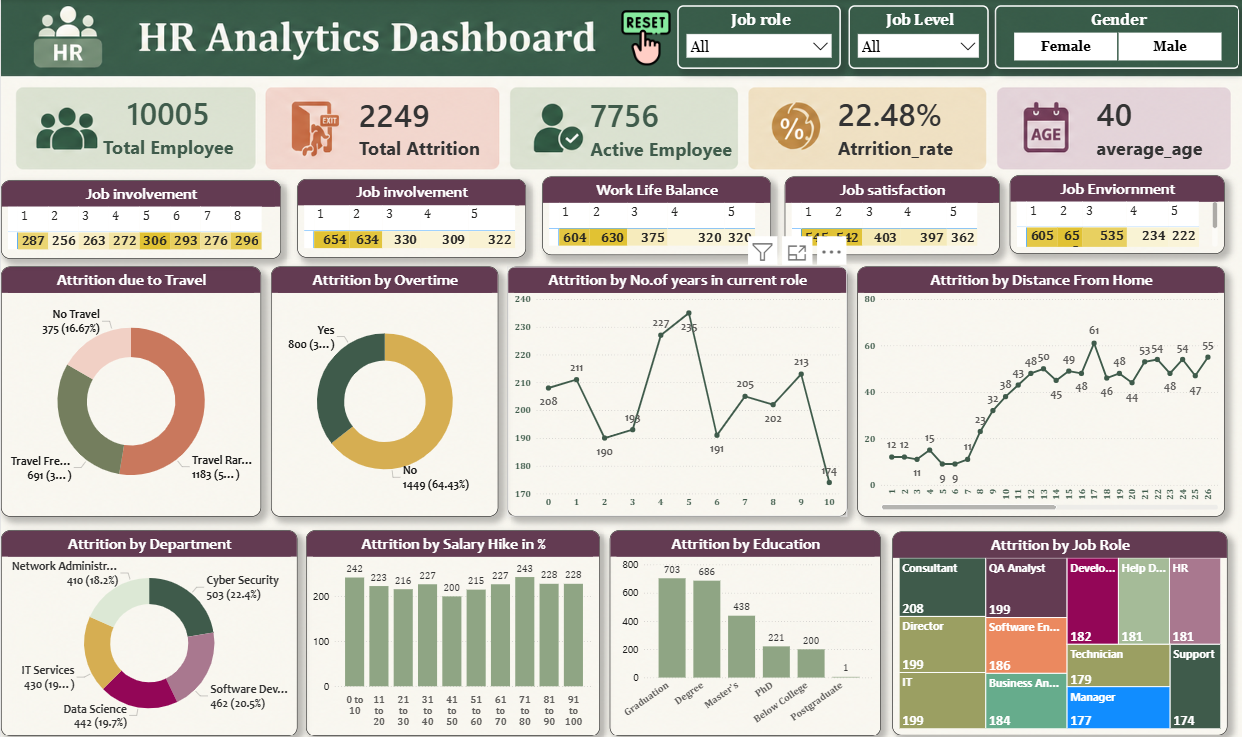

What the dashboard file says about the page in this screenshot:
{"tool":"powerbi","page":{"name":"Page 1","canvas":[2000,1200],"ordinal":0},"visuals":[{"type":"cardVisual","fields":{"Data":["CountNonNull(Employees.Employee_ID)"]},"box":[120.6,132.7,297.6,140.8],"z":0},{"type":"cardVisual","fields":{"Data":["Employees.Attrition_yes"]},"box":[546.9,88.5,297.6,233.2],"z":1000},{"type":"cardVisual","fields":{"Data":["Employees.Attrition_no"]},"box":[918.9,112.6,297.6,187],"z":2000},{"type":"cardVisual","fields":{"Data":["Employees.Atrrition_rate"]},"box":[1317,126.7,273.5,156.8],"z":3000},{"type":"cardVisual","fields":{"Data":["Employees.average_age"]},"box":[1733.3,128.7,267.4,150.8],"z":4000},{"type":"donutChart","title":"Attrition by Department","fields":{"Category":["Employees.Department"],"Y":["Employees.Attrition_yes"]},"box":[0,854.6,476.5,331.8],"z":5000},{"type":"treemap","title":"Attrition by Job Role","fields":{"Group":["Employees.Job_Role"],"Values":["Employees.Attrition_yes"]},"box":[1433.7,856.6,538.9,327.7],"z":6000},{"type":"lineChart","title":"Attrition by Distance From Home","fields":{"Category":["Employees.Distance_From_Home"],"Y":["Employees.Attrition_yes"]},"box":[1377.4,430.3,591.2,402.1],"z":7000},{"type":"donutChart","title":"Attrition by Overtime","fields":{"Category":["Employees.Overtime"],"Y":["Employees.Attrition_yes"]},"box":[433.6,430.3,366,402.1],"z":8000},{"type":"pivotTable","title":"Job satisfaction","fields":{"Values":["Employees.Attrition_yes"],"Columns":["Employees.Job_Satisfaction"]},"box":[1260.7,285.5,345.8,126.7],"z":9000},{"type":"pivotTable","title":"Job Enviornment ","fields":{"Values":["Employees.Attrition_yes"],"Columns":["Employees.Environment_Satisfaction"]},"box":[1622.7,283.5,345.8,126.7],"z":10000},{"type":"pivotTable","title":"Work Life Balance","fields":{"Values":["Employees.Attrition_yes"],"Columns":["Employees.Work_life_balance"]},"box":[870.6,285.5,368,126.7],"z":11000},{"type":"donutChart","title":"Attrition due to Travel","fields":{"Category":["Employees.Business_Travel"],"Y":["Employees.Attrition_yes"]},"box":[0,430.3,418.2,402.1],"z":12000},{"type":"lineChart","title":"Attrition by No.of years in current role","fields":{"Category":["Employees.No_of_years_in_current_role"],"Y":["Employees.Attrition_yes"]},"box":[815,430.3,546.9,402.1],"z":13000},{"type":"columnChart","title":"Attrition by Salary Hike in %","fields":{"Y":["Employees.Attrition_yes"],"Category":["Employees.Salary_Hike_in_percent (groups)"]},"box":[491.4,854.6,472.5,331.8],"z":14000},{"type":"columnChart","title":"Attrition by Education","fields":{"Y":["Employees.Attrition_yes"],"Category":["Employees.Education"]},"box":[978.8,854.6,436,331.8],"z":15000},{"type":"pivotTable","title":"Job involvement","fields":{"Values":["Employees.Attrition_yes"],"Columns":["Employees.Job_Involvement"]},"box":[476.5,289.5,368,126.7],"z":16000},{"type":"pivotTable","title":"Job involvement","fields":{"Values":["Employees.Attrition_yes"],"Columns":["Employees.Job_Level"]},"box":[0,291.6,450.4,126.7],"z":17000},{"type":"slicer","title":"Gender","fields":{"Values":["Employees.Gender"]},"box":[1598.5,10.1,394.1,102.5],"z":18000},{"type":"slicer","title":"Job Level","fields":{"Values":["Employees.Job_Level"]},"box":[1362.3,10.1,225.2,102.5],"z":19000},{"type":"slicer","title":"Job role","fields":{"Values":["Employees.Job_Role"]},"box":[1087.8,10.1,263.4,102.5],"z":20000},{"type":"image","box":[963.1,18.1,148.8,88.5],"z":21000}]}

Visuals, with their boxes in screenshot pixels (x1, y1, x2, y2), scaled from the page's 2000x1200 canvas onto the 1242x737 screenshot:
cardVisual - CountNonNull(Employees.Employee_ID): select_region(75, 81, 260, 168)
cardVisual - Employees.Attrition_yes: select_region(340, 54, 524, 198)
cardVisual - Employees.Attrition_no: select_region(571, 69, 755, 184)
cardVisual - Employees.Atrrition_rate: select_region(818, 78, 988, 174)
cardVisual - Employees.average_age: select_region(1076, 79, 1241, 172)
"Attrition by Department" donutChart: select_region(0, 525, 296, 729)
"Attrition by Job Role" treemap: select_region(890, 526, 1225, 727)
"Attrition by Distance From Home" lineChart: select_region(855, 264, 1223, 511)
"Attrition by Overtime" donutChart: select_region(269, 264, 497, 511)
"Job satisfaction" pivotTable: select_region(783, 175, 998, 253)
"Job Enviornment " pivotTable: select_region(1008, 174, 1222, 252)
"Work Life Balance" pivotTable: select_region(541, 175, 769, 253)
"Attrition due to Travel" donutChart: select_region(0, 264, 260, 511)
"Attrition by No.of years in current role" lineChart: select_region(506, 264, 846, 511)
"Attrition by Salary Hike in %" columnChart: select_region(305, 525, 599, 729)
"Attrition by Education" columnChart: select_region(608, 525, 879, 729)
"Job involvement" pivotTable: select_region(296, 178, 524, 256)
"Job involvement" pivotTable: select_region(0, 179, 280, 257)
"Gender" slicer: select_region(993, 6, 1237, 69)
"Job Level" slicer: select_region(846, 6, 986, 69)
"Job role" slicer: select_region(676, 6, 839, 69)
image: select_region(598, 11, 690, 65)
